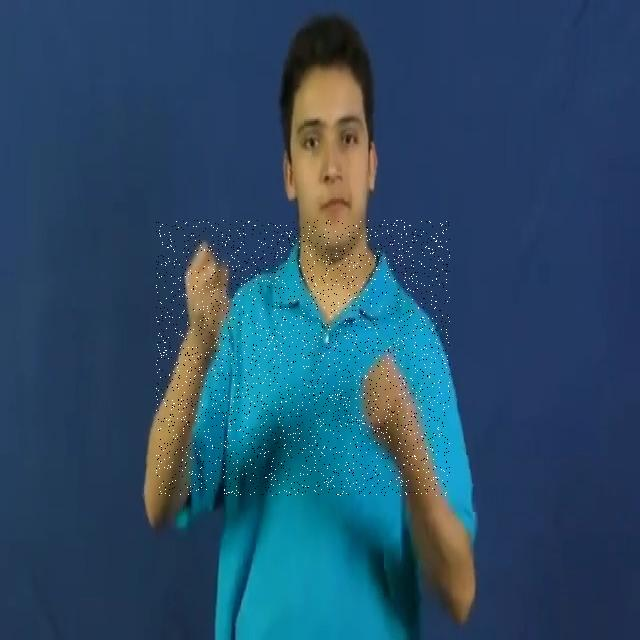drive: (156, 220, 450, 496)
